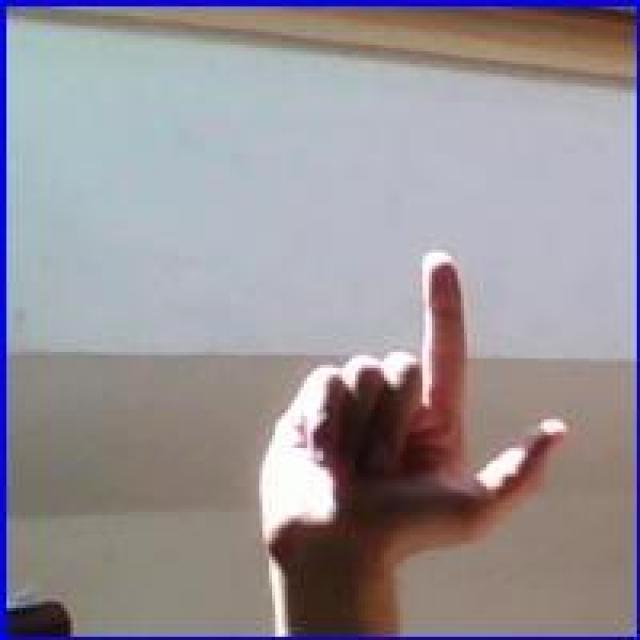L: (251, 248, 578, 578)
